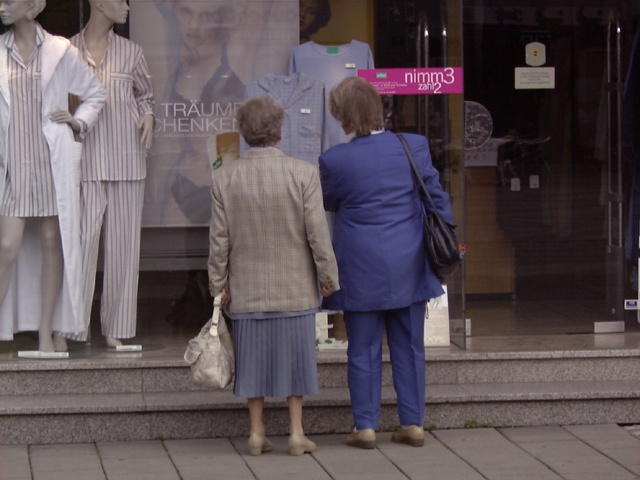person: (204, 102, 337, 461), (319, 78, 444, 446)
